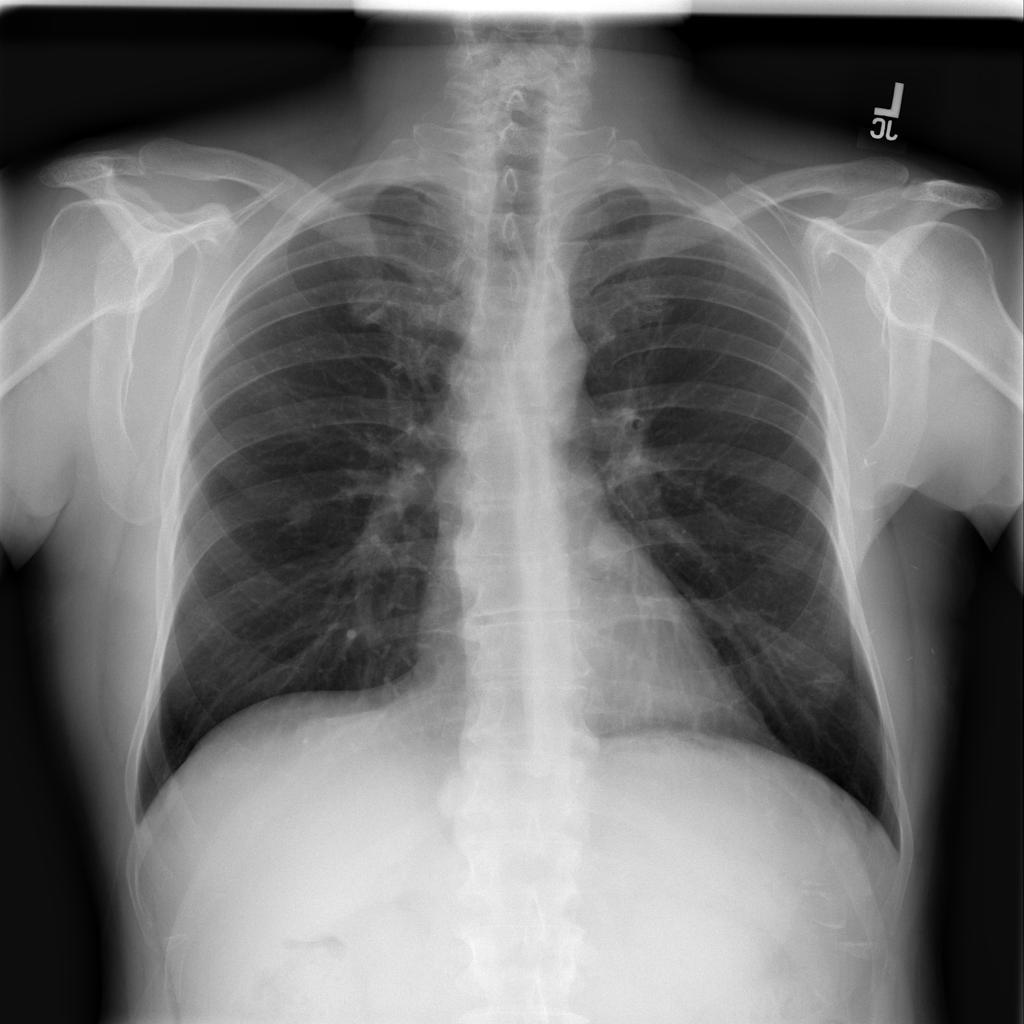nodule: (576, 510, 645, 583), (273, 486, 325, 537)
